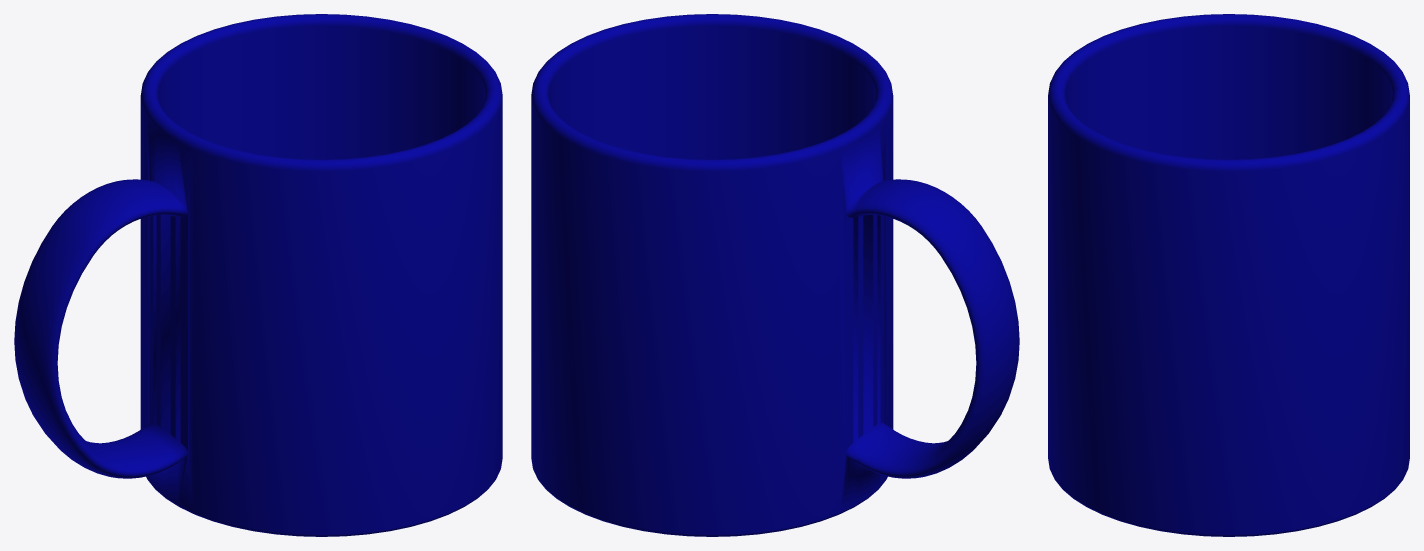
File: blueCup.dae
3 renders of one model, left to right at view 1: azimuth 30°, elevation 25°; view 2: azimuth 150°, elevation 25°; view 3: azimuth 270°, elevation 25°, orthographic.
Parts seen in each view (by area): view 1: Model; view 2: Model; view 3: Model.
Part boxes in pixels (x1,y1,x2,y2): Model: [14, 14, 502, 536]; Model: [531, 14, 1019, 536]; Model: [1048, 14, 1409, 536].
Size of the model in its own units: 0.1228 by 0.085 by 0.097.
